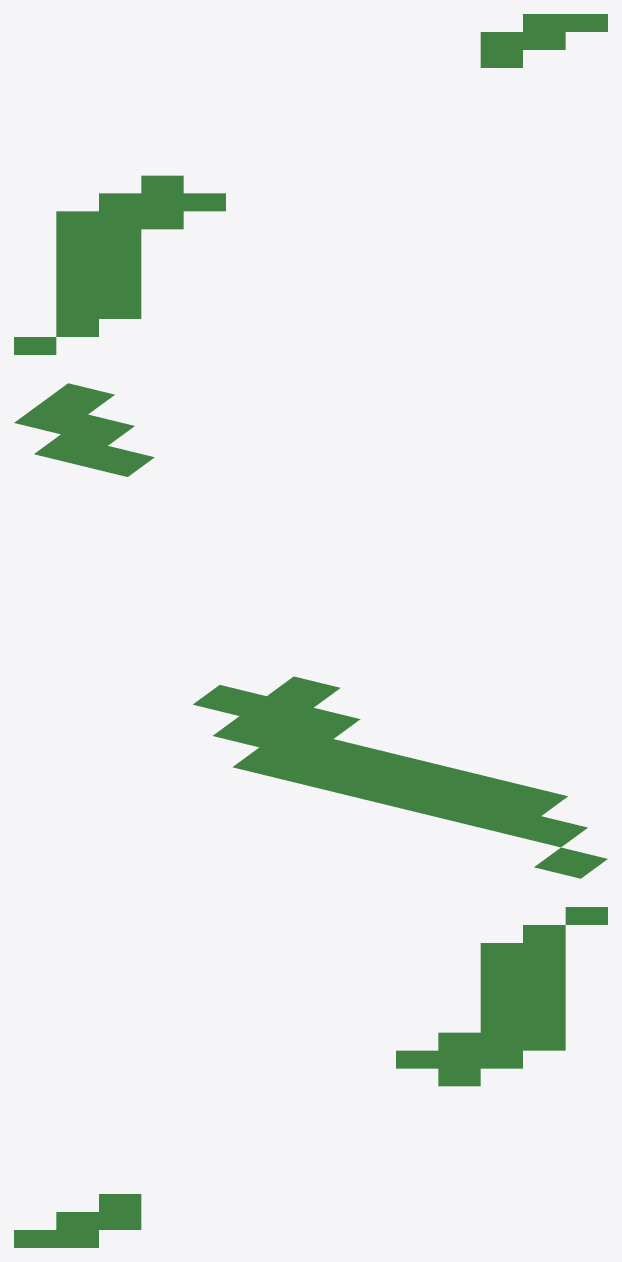
The model's file is Isl-crescent2-TreesArea.fbx.
3 views of the same model, one above another, from view 1: azimuth 90°, elevation 25°; view 2: azimuth 150°, elevation 25°; view 3: azimuth 270°, elevation 25° (orthographic). The views are drawn at different scales.
Parts seen in each view (by area): view 1: Isl-crescent2-TreesArea; view 2: Isl-crescent2-TreesArea; view 3: Isl-crescent2-TreesArea.
Boxes of the visible parts, x1,y1,x2,y2 form: Isl-crescent2-TreesArea: [14, 14, 607, 354]; Isl-crescent2-TreesArea: [14, 383, 607, 878]; Isl-crescent2-TreesArea: [14, 907, 607, 1247].
Bounding box in the file's own units: 19 × 0 × 14.
